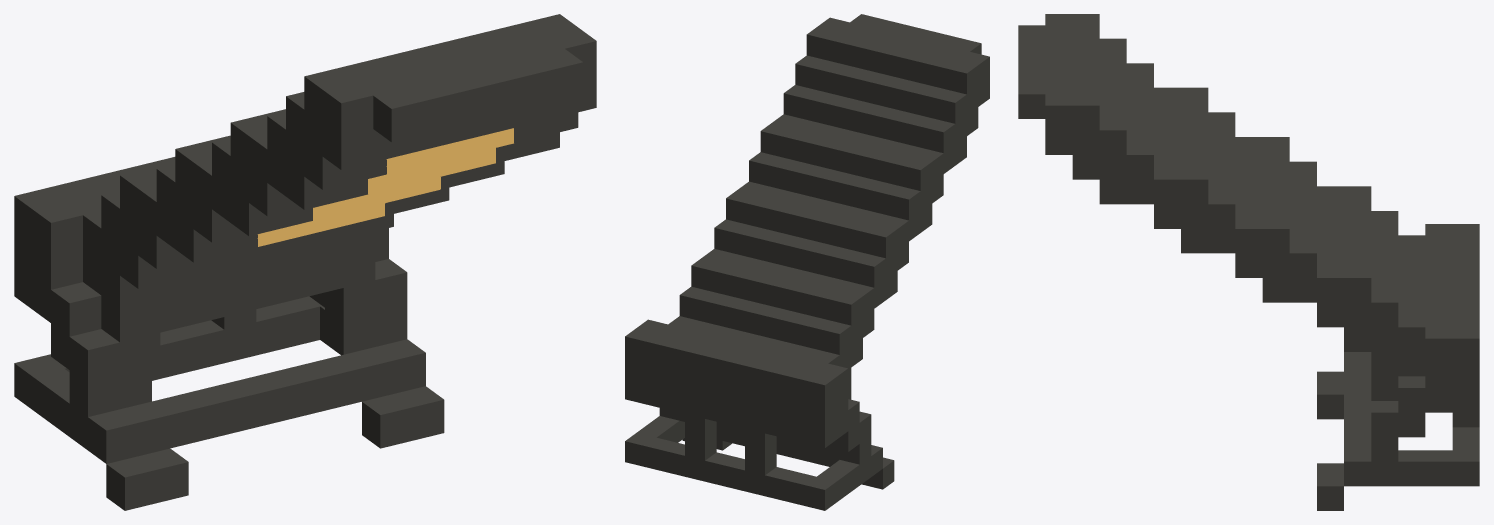
File: lampa__sciana_kontowa.dae
3 renders of one model, left to right at view 1: azimuth 30°, elevation 25°; view 2: azimuth 150°, elevation 25°; view 3: azimuth 270°, elevation 25°, orthographic. The views are drawn at different scales.
Parts seen in each view (by area): view 1: Content; view 2: Content; view 3: Content.
Part boxes in pixels (x1,y1,x2,y2): Content: (14, 14, 596, 510); Content: (625, 14, 989, 510); Content: (1018, 14, 1479, 510).
Size of the model in its own units: 10 by 16 by 17.
1 material, 1 textured.
